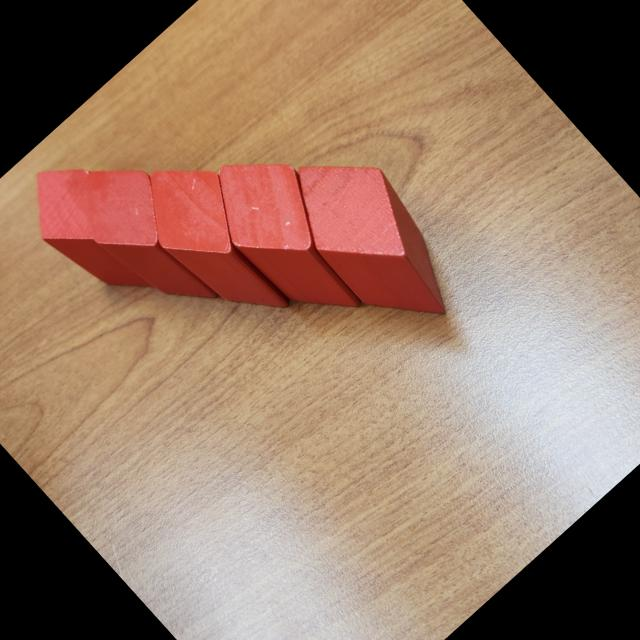red: (299, 165, 445, 312), (219, 165, 362, 308), (151, 171, 288, 307), (90, 168, 218, 299), (37, 170, 153, 285)
